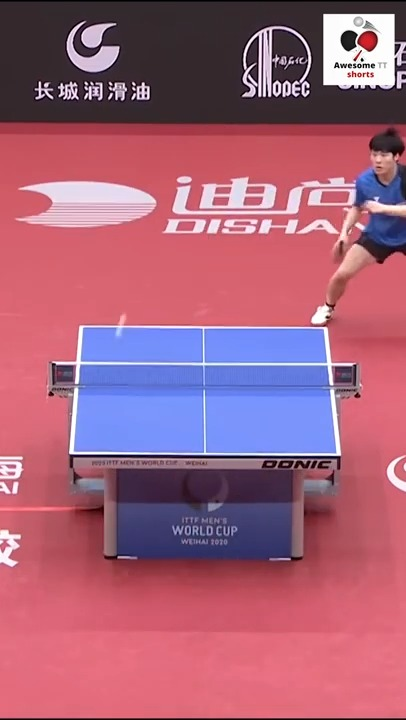Ball: (114, 313, 128, 334)
